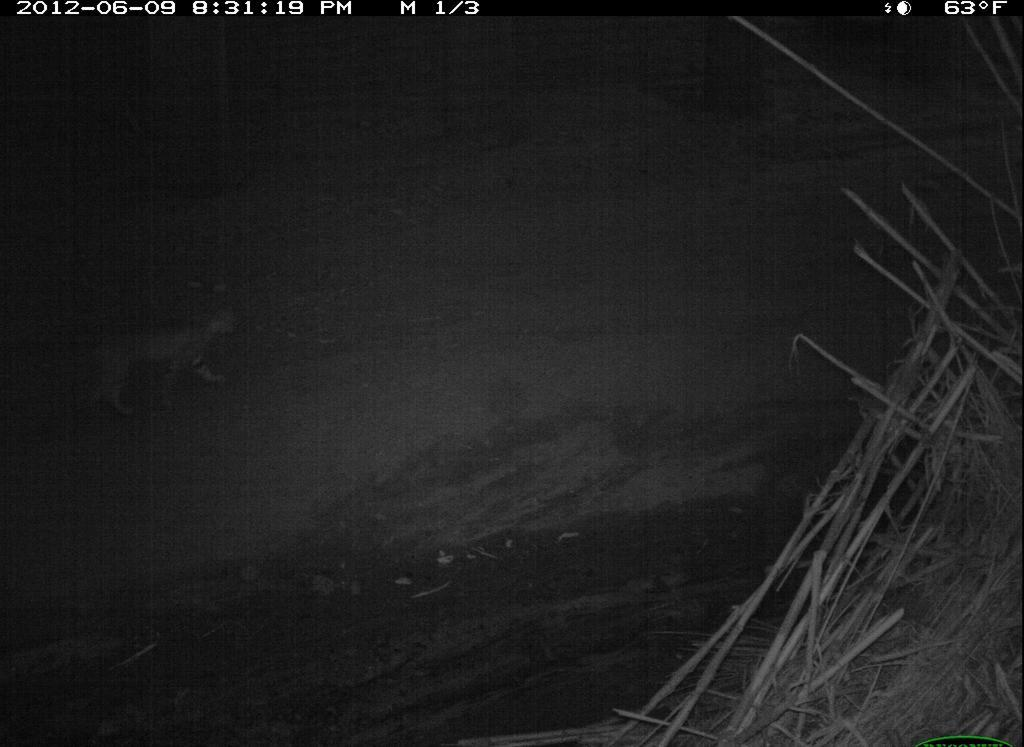bobcat: (61, 299, 249, 427)
